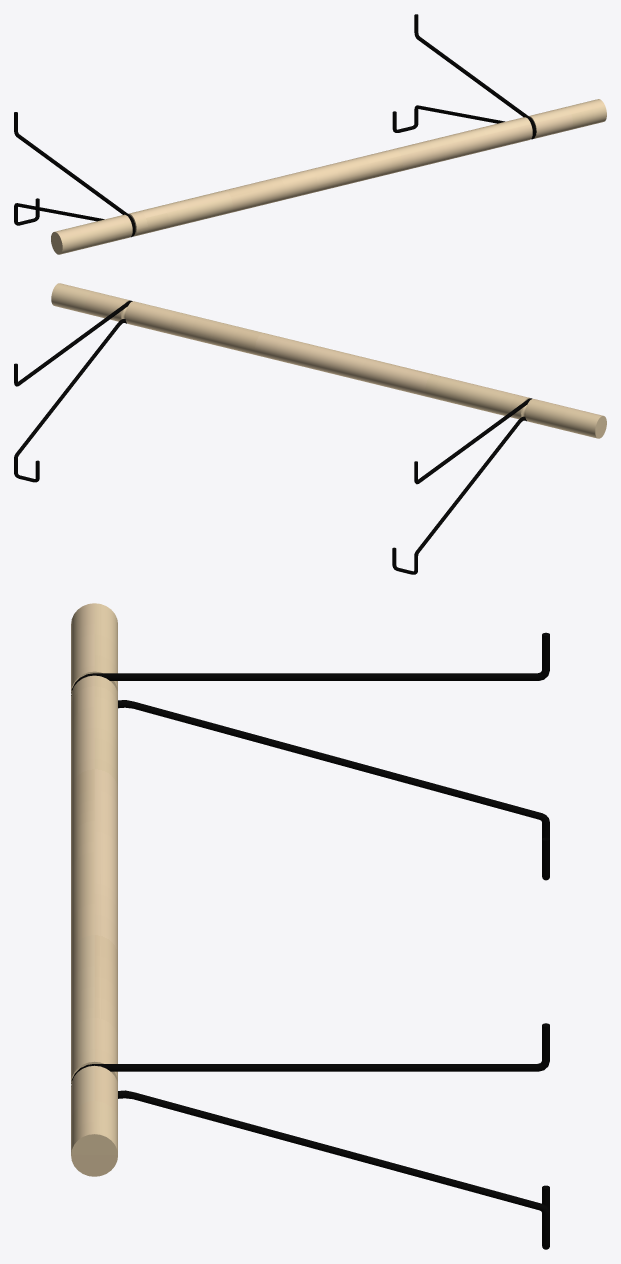
File: wardrobe80.glb
3 views of the same model, one above another, from view 1: azimuth 30°, elevation 25°; view 2: azimuth 150°, elevation 25°; view 3: azimuth 270°, elevation 25° (orthographic). The views are drawn at different scales.
Parts seen in each view (by area): view 1: Geom3D, Geom3D_ (×2); view 2: Geom3D, Geom3D_ (×2); view 3: Geom3D, Geom3D_ (×2).
Boxes of the visible parts, x1,y1,x2,y2 form: Geom3D: (51, 99, 606, 254); Geom3D_ (×2): (14, 14, 536, 237); Geom3D: (51, 283, 606, 438); Geom3D_ (×2): (14, 300, 532, 574); Geom3D: (71, 603, 117, 1176); Geom3D_ (×2): (71, 632, 549, 1249).
Bounding box in the file's own units: 0.8 × 0.1593 × 0.305.
Materials: 2 (1 with a texture image).
